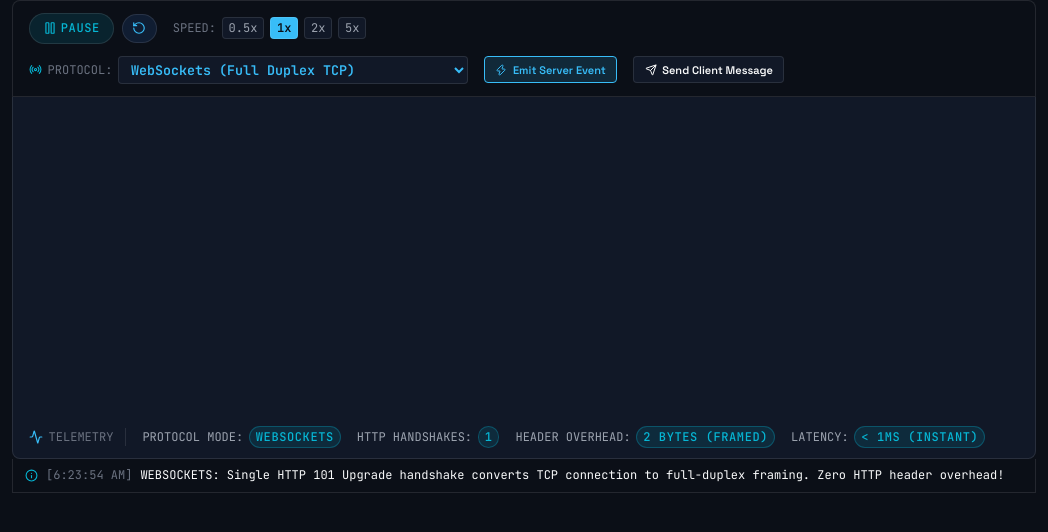
RealtimeCommVisualizer (Bonus Viz #2) › handles Send Client Message button click
The image size is (1048, 532).
What coordinates should you click on to do the following:
click the button "Send Client Message"
I would click on:
 (709, 70)
Its box is [633,56,784,83].
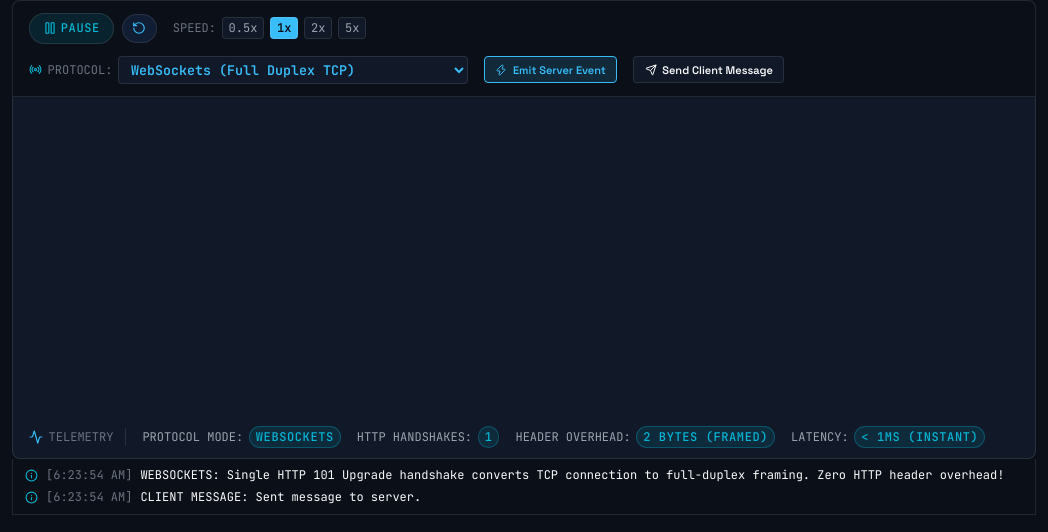
Now the text "CLIENT MESSAGE: Sent message to server." is shown, box [140,489,421,506]
